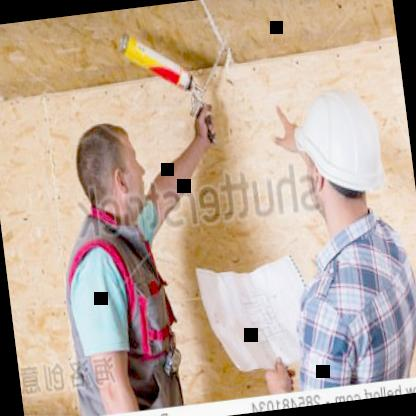helmet: (287, 81, 394, 235)
